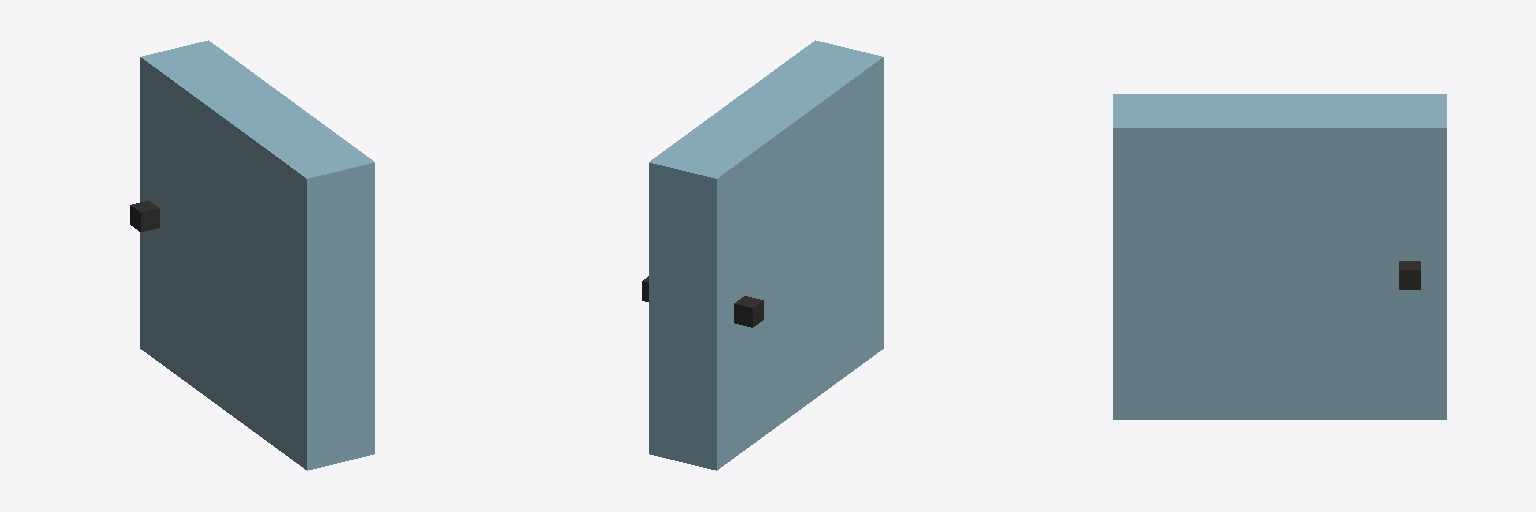
File: Door.obj
3 renders of one model, left to right at view 1: azimuth 30°, elevation 25°; view 2: azimuth 150°, elevation 25°; view 3: azimuth 270°, elevation 25°, orthographic.
Visible parts, largest first — view 1: Door; view 2: Door; view 3: Door.
Part boxes in pixels (x1,y1,x2,y2): Door: (130, 40, 374, 470); Door: (642, 40, 883, 470); Door: (1113, 94, 1446, 419).
Size of the model in its own units: 5.9 by 14.85 by 15.38.